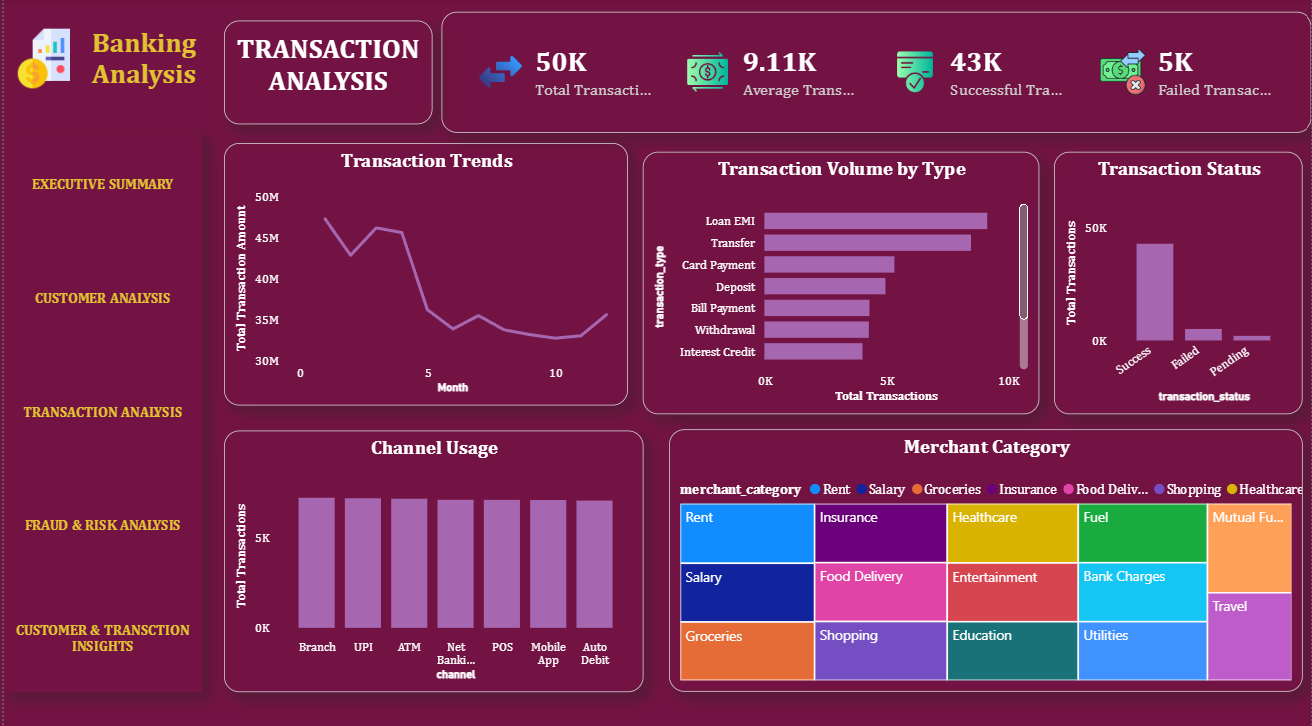

This screenshot's page, from the dashboard's own definition file:
{"tool":"powerbi","page":{"name":"TRANSACTION ANALYSIS","canvas":[1280,720],"ordinal":2},"visuals":[{"type":"textbox","box":[215.2,22,204.2,101.5],"z":0},{"type":"cardVisual","fields":{"Data":["finance_transactions.Total Transactions","finance_transactions.Average Transaction Amount","finance_transactions.Successful Transactions","finance_transactions.Failed Transactions"]},"box":[428,13.5,852.3,118.6],"z":1000},{"type":"lineChart","title":"Transaction Trends","fields":{"Y":["finance_transactions.Total Transaction Amount"],"Category":["Dim Calender.Month"]},"box":[215.2,141.8,395,256.8],"z":2000},{"type":"clusteredBarChart","title":"Transaction Volume by Type","fields":{"Category":["finance_transactions.transaction_type"],"Y":["finance_transactions.Total Transactions"]},"box":[624.9,150.4,387.6,256.8],"z":3000},{"type":"columnChart","title":"Channel Usage","fields":{"Category":["finance_transactions.channel"],"Y":["finance_transactions.Total Transactions"]},"box":[215,422.5,410,256.2],"z":4000},{"type":"treemap","title":"Merchant Category","fields":{"Group":["finance_transactions.merchant_category"],"Values":["finance_transactions.Total Transactions"]},"box":[650.5,421.9,620,256.8],"z":5000},{"type":"shape","box":[0,0,205.4,720.2],"z":6000},{"type":"textbox","box":[68.5,22,137,86.8],"z":7000},{"type":"image","box":[9.8,22,58.7,74.6],"z":8000},{"type":"pageNavigator","box":[0,132.5,193.8,546.2],"z":9000},{"type":"columnChart","title":"Transaction Status","fields":{"Category":["finance_transactions.transaction_status"],"Y":["finance_transactions.Total Transactions"]},"box":[1027.2,150.4,243.3,256.8],"z":10000}]}

Visuals, with their boxes in screenshot pixels (x1, y1, x2, y2), scaled from the page's 1280x720 canvas onto the 1312x726 screenshot:
textbox: box=[221, 22, 430, 125]
cardVisual - finance_transactions.Total Transactions x finance_transactions.Average Transaction Amount: box=[439, 14, 1311, 133]
"Transaction Trends" lineChart: box=[221, 143, 625, 402]
"Transaction Volume by Type" clusteredBarChart: box=[641, 152, 1038, 411]
"Channel Usage" columnChart: box=[220, 426, 641, 684]
"Merchant Category" treemap: box=[667, 425, 1302, 684]
shape: box=[0, 0, 211, 725]
textbox: box=[70, 22, 211, 110]
image: box=[10, 22, 70, 97]
pageNavigator: box=[0, 134, 199, 684]
"Transaction Status" columnChart: box=[1053, 152, 1302, 411]
